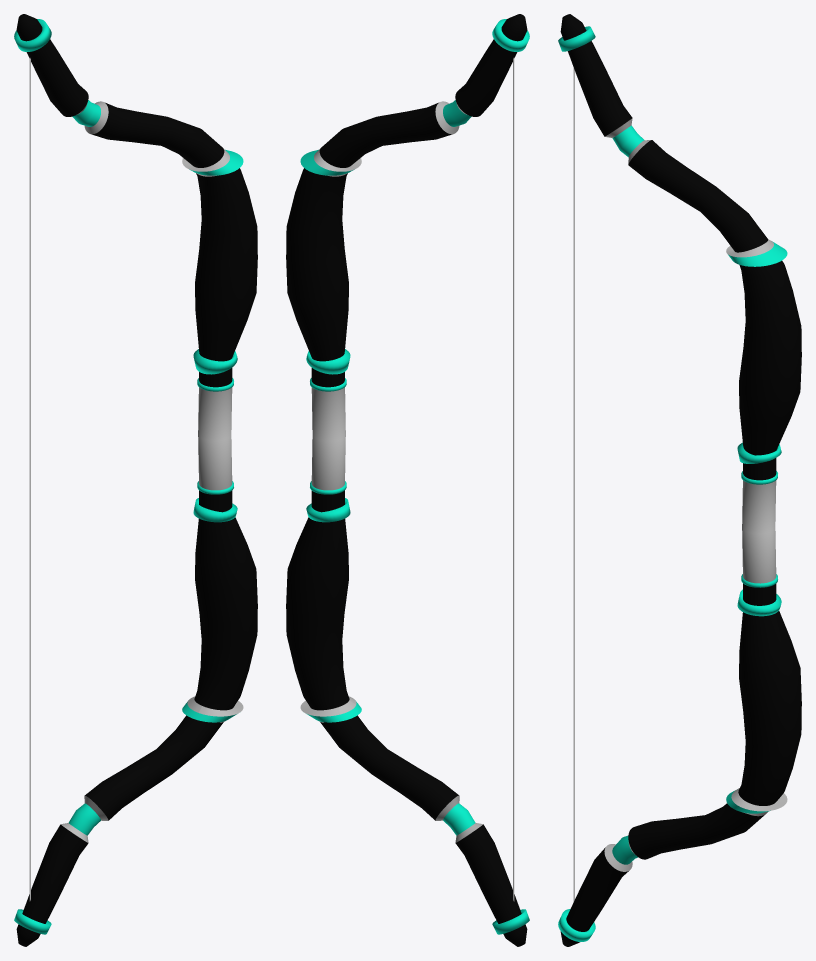
The model's file is starterBow.fbx.
3 renders of one model, left to right at view 1: azimuth 30°, elevation 25°; view 2: azimuth 150°, elevation 25°; view 3: azimuth 330°, elevation 25°, orthographic.
Visible parts, largest first — view 1: starterBow, bowString; view 2: starterBow, bowString; view 3: starterBow, bowString.
Part boxes in pixels (bbox=[...]): starterBow: bbox=[14, 14, 257, 946]; bowString: bbox=[29, 57, 30, 901]; starterBow: bbox=[286, 14, 529, 946]; bowString: bbox=[513, 57, 514, 901]; starterBow: bbox=[558, 14, 801, 946]; bowString: bbox=[573, 68, 574, 901].
Bounding box in the file's own units: 71.93 × 270 × 16.39.
1 material, 1 textured.
